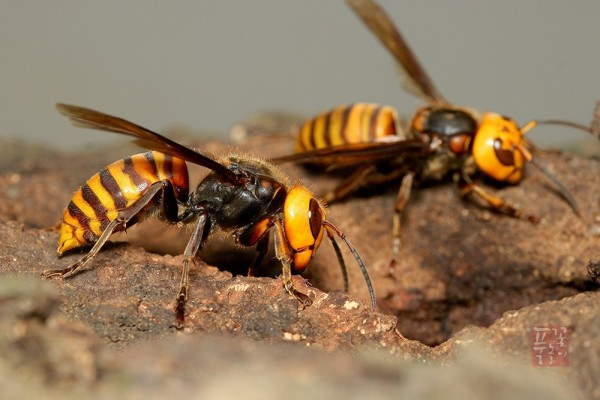asian_giant_hornet: (56, 149, 328, 285), (298, 99, 539, 185)
